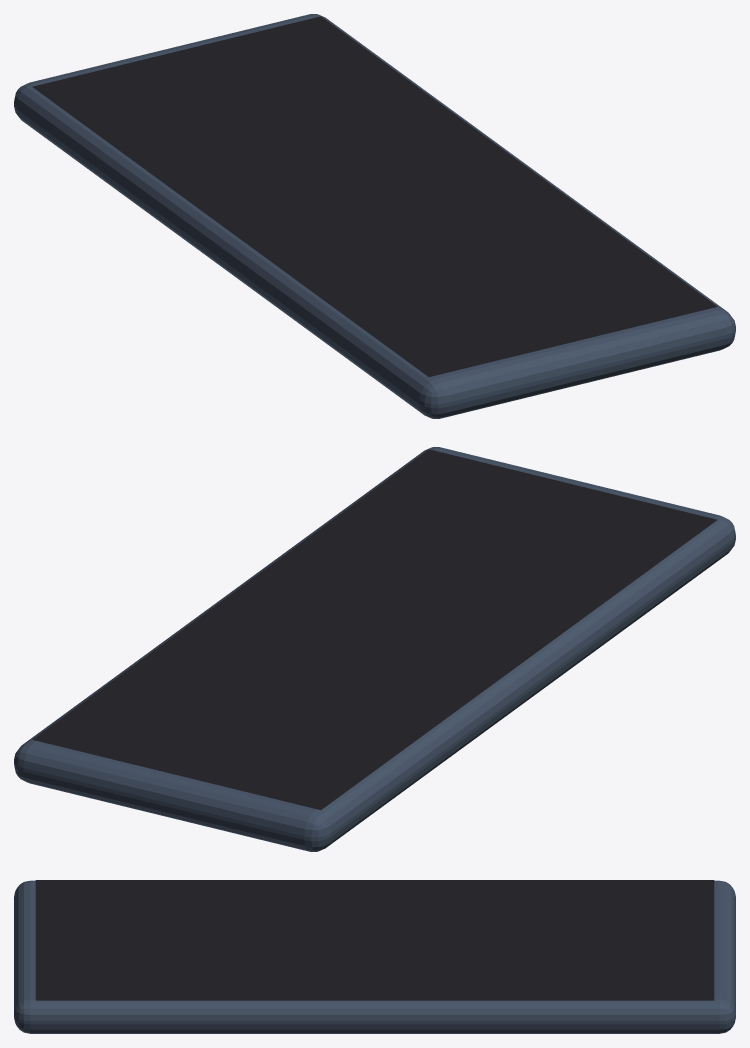
File: oppo-f-model-327-flagship-2021.glb
3 renders of one model, top to bottom at view 1: azimuth 30°, elevation 25°; view 2: azimuth 150°, elevation 25°; view 3: azimuth 270°, elevation 25°, orthographic. The views are drawn at different scales.
Visible parts, largest first — view 1: Phone_Screen, Phone_Body; view 2: Phone_Screen, Phone_Body; view 3: Phone_Screen, Phone_Body.
Boxes of the visible parts, x1,y1,x2,y2 form: Phone_Screen: (32,16,717,376); Phone_Body: (14,14,735,418); Phone_Screen: (32,449,717,809); Phone_Body: (14,447,735,851); Phone_Screen: (35,880,714,1000); Phone_Body: (14,880,735,1033).
Size of the model in its own units: 0.0717 by 0.0085 by 0.1669.
